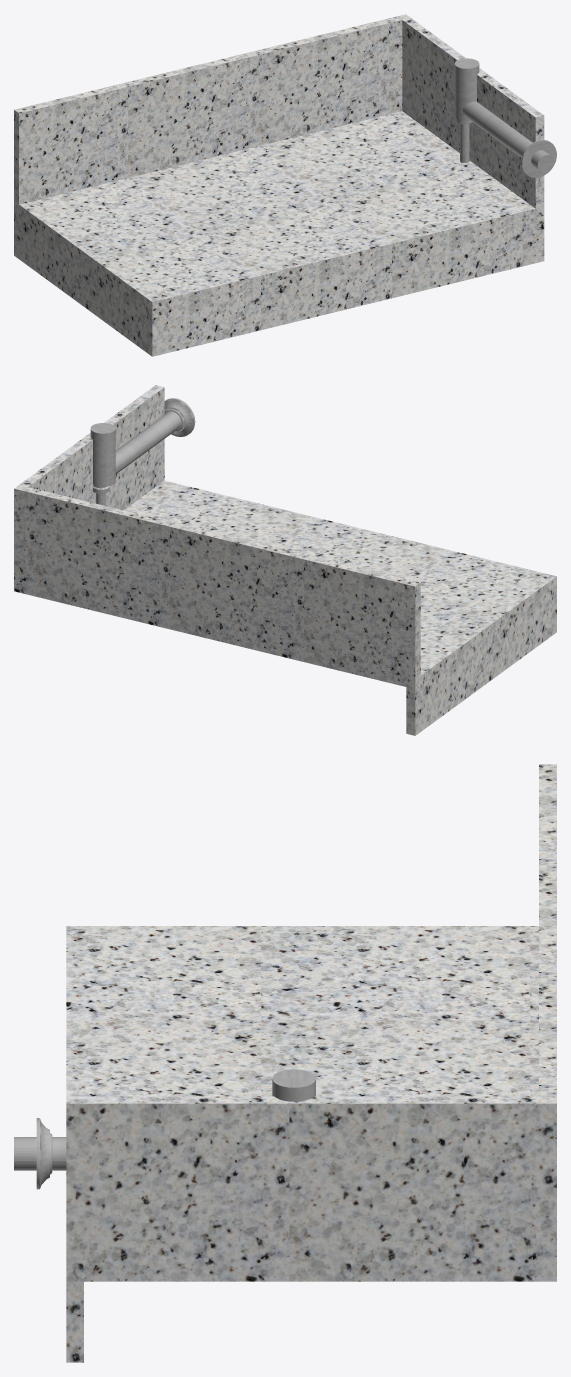
File: BancadaEsquerdaBanheiro.fbx
3 views of the same model, one above another, from view 1: azimuth 30°, elevation 25°; view 2: azimuth 150°, elevation 25°; view 3: azimuth 270°, elevation 25° (orthographic). The views are drawn at different scales.
Visible parts, largest first — view 1: group_ 6.045, group_ 3.070, group_ 7.040, group_ 5.059, group_.195, Component#322.001; view 2: group_ 3.070, group_ 6.045, group_.195, group_ 5.059, Component#322.001; view 3: group_ 5.059, group_ 6.045, group_ 3.070, Component#322.001, group_ 7.040.
Part boxes in pixels (x1,y1,x2,y2): group_ 6.045: [14, 111, 543, 311]; group_ 3.070: [14, 14, 405, 209]; group_ 7.040: [147, 215, 544, 356]; group_ 5.059: [402, 14, 544, 215]; group_.195: [14, 210, 147, 352]; Component#322.001: [454, 58, 556, 177]; group_ 3.070: [14, 487, 420, 688]; group_ 6.045: [124, 480, 556, 688]; group_.195: [406, 589, 551, 735]; group_ 5.059: [14, 385, 164, 510]; Component#322.001: [90, 398, 195, 505]; group_ 5.059: [66, 1096, 556, 1281]; group_ 6.045: [66, 926, 538, 1096]; group_ 3.070: [539, 764, 556, 1103]; Component#322.001: [14, 1069, 315, 1189]; group_ 7.040: [66, 1281, 83, 1362].
Size of the model in its own units: 0.9102 by 0.3373 by 0.6086.
3 materials, 2 textured.
